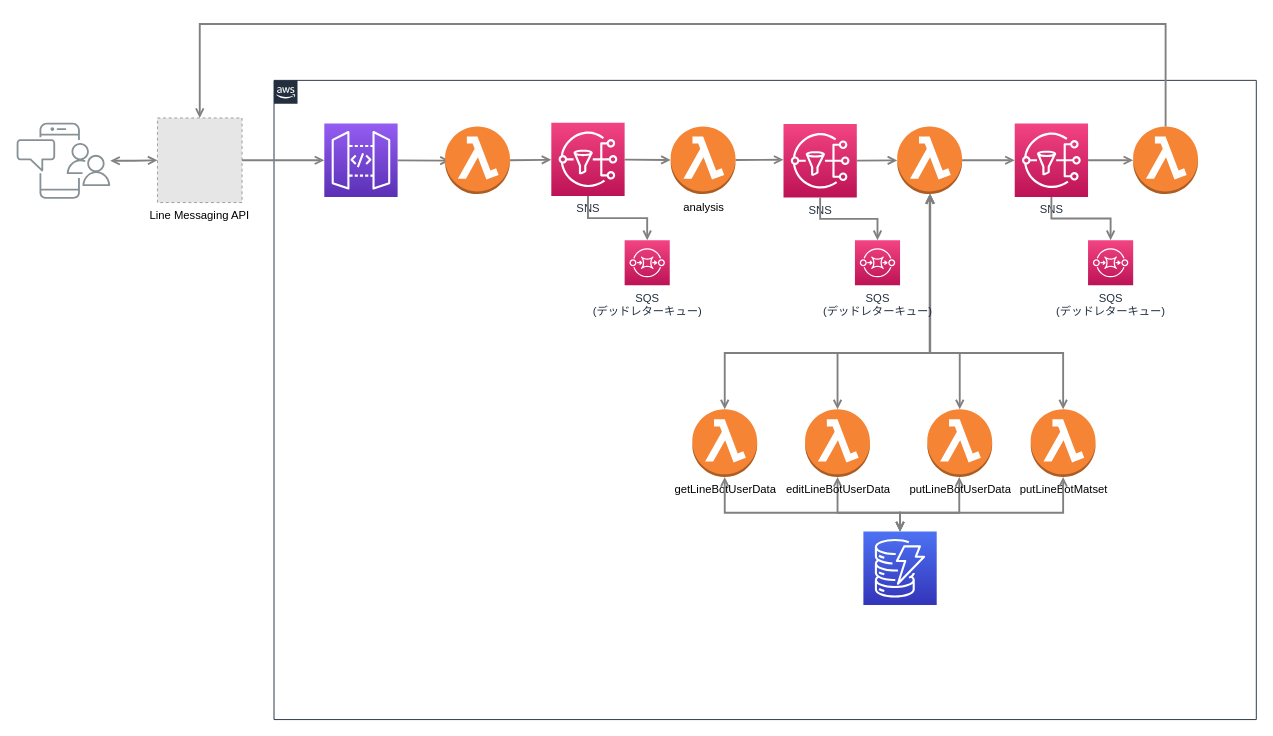
The diagram is 1273 pixels wide and 736 high, and some of its shapes have lost their labels. Grey dashed boxes stand in for pictures. Here are the shapes that lost their labels. From the top down, the box of each, then its label:
(16, 122, 110, 198): Line app
(323, 123, 398, 197): API Gateway
(444, 125, 510, 194): linebotWebhook
(896, 125, 962, 194): getReplyMessage
(1132, 125, 1198, 194): linebotReply
(862, 531, 937, 605): DynamoDB
